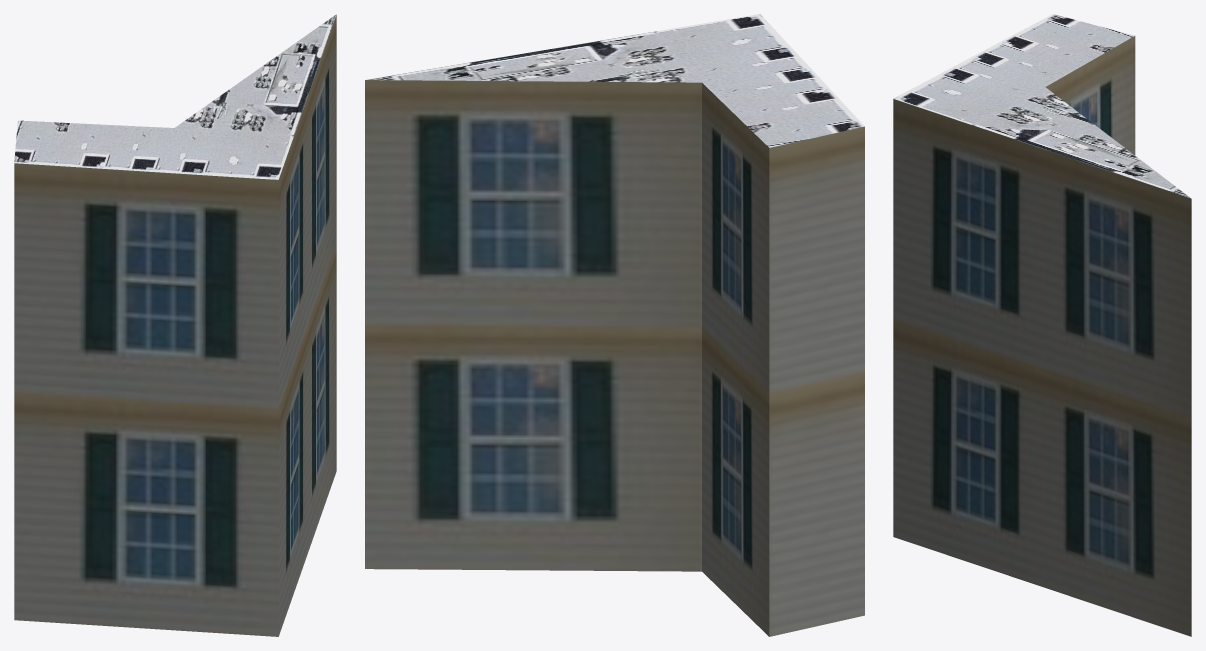
File: ResTex__2177.fbx
3 views of the same model, side by side, from view 1: azimuth 30°, elevation 25°; view 2: azimuth 150°, elevation 25°; view 3: azimuth 270°, elevation 25° (orthographic). The views are drawn at different scales.
Parts seen in each view (by area): view 1: CityEngineMaterial_7_m, CityEngineMaterial_15_m; view 2: CityEngineMaterial_7_m, CityEngineMaterial_15_m; view 3: CityEngineMaterial_7_m, CityEngineMaterial_15_m.
Part boxes in pixels (x1,y1,x2,y2): CityEngineMaterial_7_m: [14, 15, 336, 636]; CityEngineMaterial_15_m: [14, 14, 336, 179]; CityEngineMaterial_7_m: [365, 80, 864, 636]; CityEngineMaterial_15_m: [366, 14, 864, 147]; CityEngineMaterial_7_m: [893, 36, 1191, 636]; CityEngineMaterial_15_m: [894, 14, 1190, 198].
Size of the model in its own units: 5.42 by 6 by 3.7.
2 materials, 2 textured.
